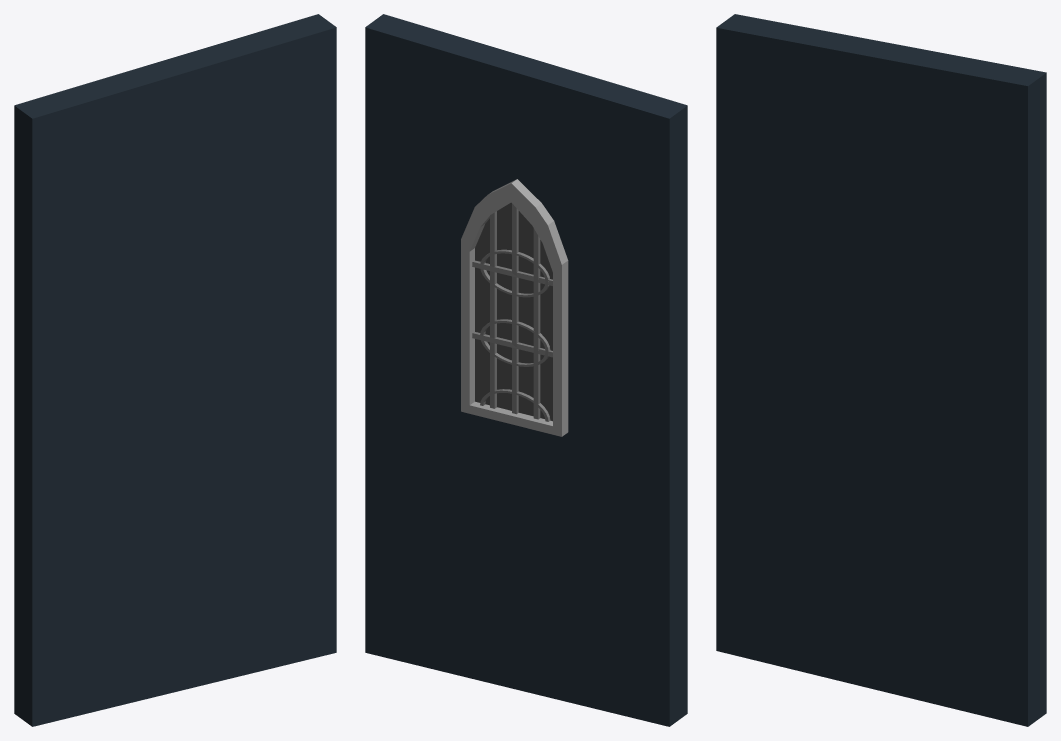
Rendered from Back_two_side_face_window_style2.glb.
3 views of the same model, side by side, from view 1: azimuth 30°, elevation 25°; view 2: azimuth 150°, elevation 25°; view 3: azimuth 330°, elevation 25° (orthographic). The views are drawn at different scales.
Visible parts, largest first — view 1: Cube; view 2: Cube, Cube.006; view 3: Cube.
Boxes of the visible parts, box(x1,y1,x2,y2) form: Cube: box(14, 14, 336, 726); Cube: box(365, 14, 687, 726); Cube.006: box(461, 179, 568, 436); Cube: box(716, 14, 1046, 726).
Size of the model in its own units: 7.44 by 14.6 by 1.04.
